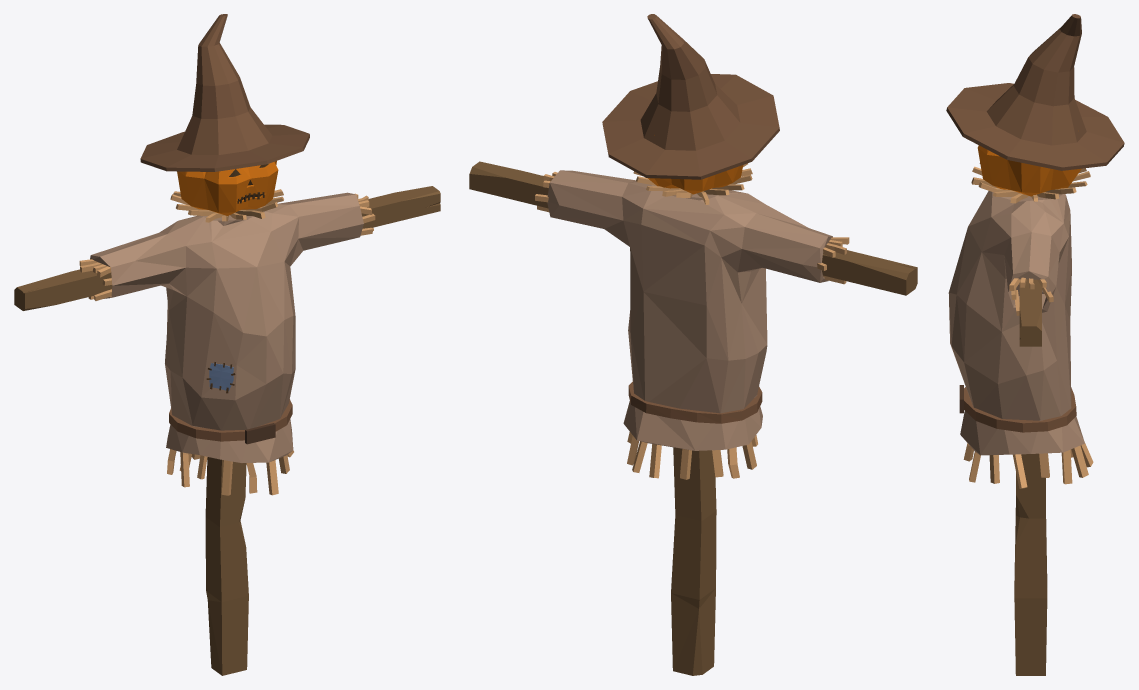
File: Mesh_Props_Scarecrow_02.obj
The picture shows the model from 3 angles, left to right: view 1: azimuth 30°, elevation 25°; view 2: azimuth 150°, elevation 25°; view 3: azimuth 270°, elevation 25°; orthographic projection. The views are drawn at different scales.
Visible parts, largest first — view 1: Mesh_Props_Scarecrow_02_M_LowPolyFarm_MAIN; view 2: Mesh_Props_Scarecrow_02_M_LowPolyFarm_MAIN; view 3: Mesh_Props_Scarecrow_02_M_LowPolyFarm_MAIN.
Boxes of the visible parts, bbox=[...] form: Mesh_Props_Scarecrow_02_M_LowPolyFarm_MAIN: bbox=[14, 14, 440, 675]; Mesh_Props_Scarecrow_02_M_LowPolyFarm_MAIN: bbox=[469, 14, 917, 675]; Mesh_Props_Scarecrow_02_M_LowPolyFarm_MAIN: bbox=[946, 14, 1124, 675].
Size of the model in its own units: 1.7 by 2.47 by 0.6028.
